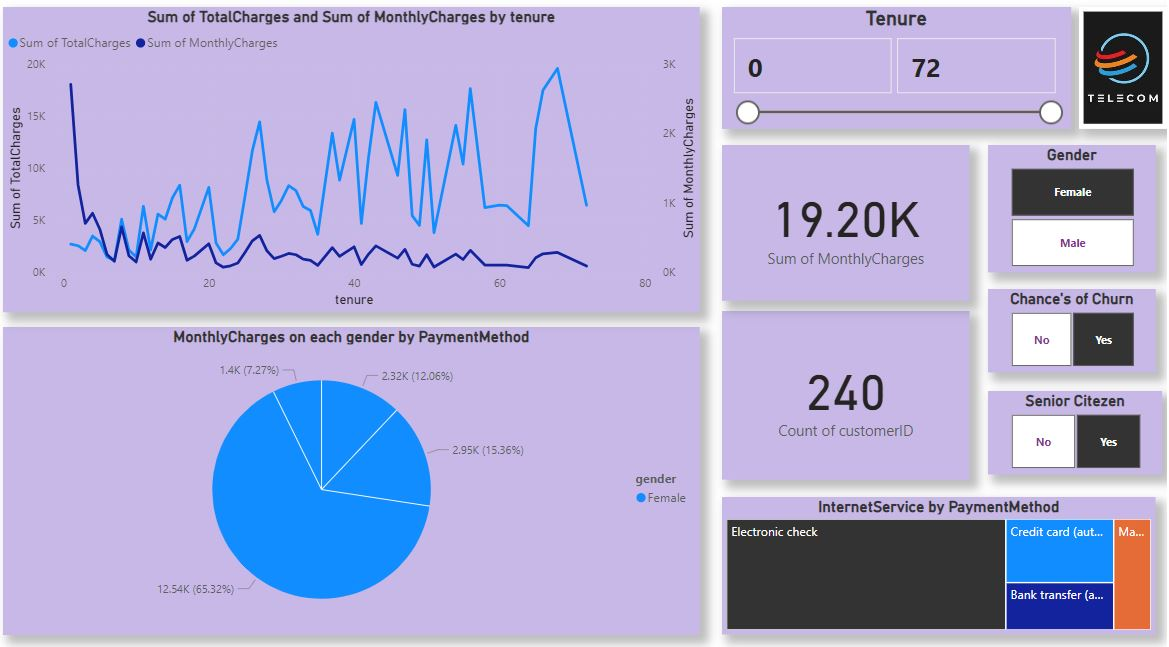

This screenshot's page, from the dashboard's own definition file:
{"tool":"powerbi","page":{"name":"Churn Rate","canvas":[1280,720],"ordinal":1},"visuals":[{"type":"card","fields":{"Values":["Count(final_data.customerID)"]},"box":[795.7,342.3,270,184.3],"z":0},{"type":"pieChart","title":"MonthlyCharges on each gender by PaymentMethod","fields":{"Category":["final_data.gender"],"Series":["final_data.PaymentMethod"],"Y":["Sum(final_data.MonthlyCharges)"]},"box":[11.4,360,760,335.7],"z":1000},{"type":"slicer","title":"Senior Citezen","fields":{"Values":["final_data.SeniorCitizen_Rec"]},"box":[1085.7,430,190,91.4],"z":2000},{"type":"card","fields":{"Values":["Sum(final_data.MonthlyCharges)"]},"box":[795.7,161.7,270,170],"z":3000},{"type":"slicer","title":"Tenure","fields":{"Values":["final_data.tenure"]},"box":[795.7,11.4,381.4,132.9],"z":4000},{"type":"slicer","title":"Chance''s of Churn","fields":{"Values":["final_data.Churn"]},"box":[1085.7,318.6,182.9,91.4],"z":5000},{"type":"slicer","title":"Gender","fields":{"Values":["final_data.gender"]},"box":[1085.7,161.4,182.9,138.6],"z":6000},{"type":"image","box":[1184.3,11.4,95.7,132.9],"z":7000},{"type":"lineChart","fields":{"Y2":["Sum(final_data.MonthlyCharges)"],"Y":["Sum(final_data.TotalCharges)"],"Category":["final_data.tenure"]},"box":[11.4,11.4,760,332.9],"z":8000},{"type":"treemap","title":"InternetService by PaymentMethod","fields":{"Group":["final_data.PaymentMethod"],"Values":["CountNonNull(final_data.InternetService)"]},"box":[795.7,545.7,472.9,150],"z":9000}]}

Visuals, with their boxes in screenshot pixels (x1, y1, x2, y2), scaled from the page's 1280x720 canvas onto the 1169x647 screenshot:
card - Count(final_data.customerID): <region>727, 308, 973, 473</region>
"MonthlyCharges on each gender by PaymentMethod" pieChart: <region>10, 324, 705, 625</region>
"Senior Citezen" slicer: <region>992, 386, 1165, 469</region>
card - Sum(final_data.MonthlyCharges): <region>727, 145, 973, 298</region>
"Tenure" slicer: <region>727, 10, 1075, 130</region>
"Chance''s of Churn" slicer: <region>992, 286, 1159, 368</region>
"Gender" slicer: <region>992, 145, 1159, 270</region>
image: <region>1082, 10, 1168, 130</region>
lineChart - Sum(final_data.MonthlyCharges) x Sum(final_data.TotalCharges): <region>10, 10, 705, 309</region>
"InternetService by PaymentMethod" treemap: <region>727, 490, 1159, 625</region>
